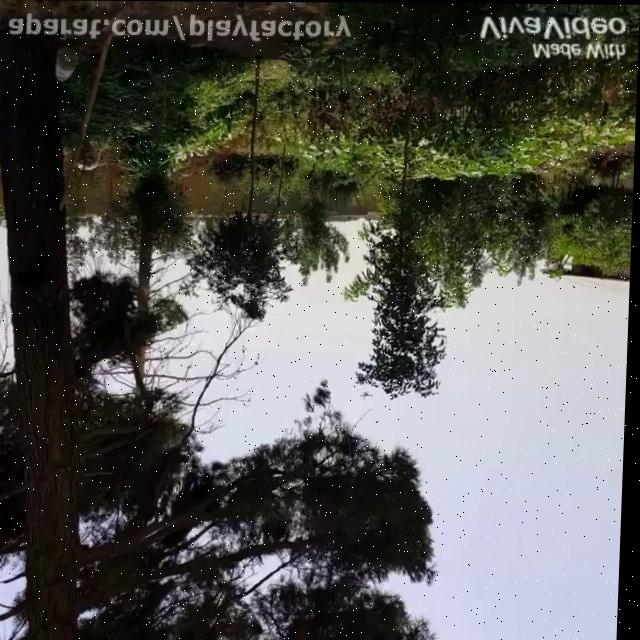drone: (358, 387, 379, 406)
